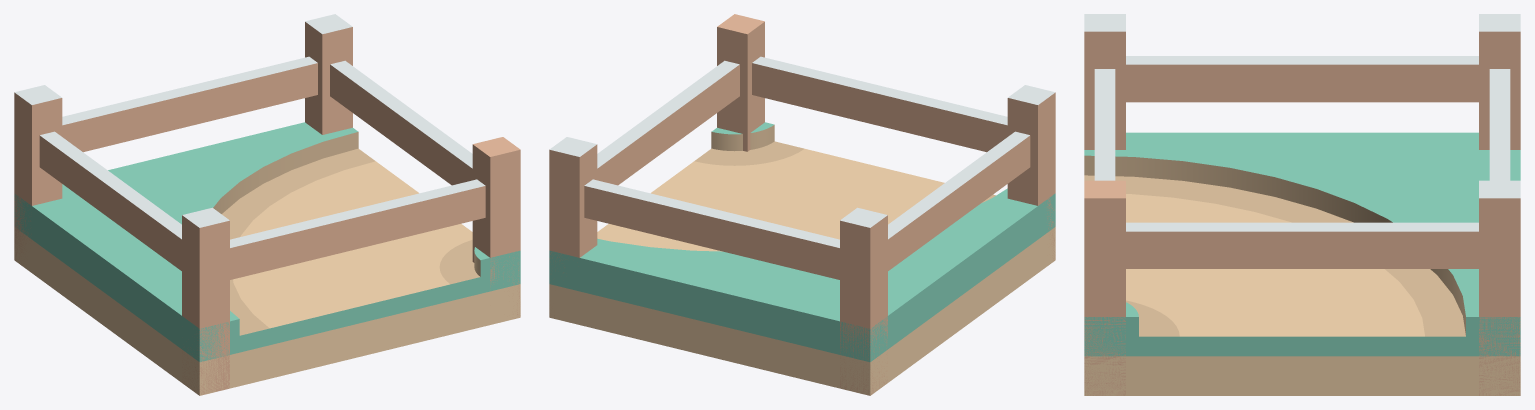
Rendered from tile_barriere.fbx.
3 views of the same model, side by side, from view 1: azimuth 30°, elevation 25°; view 2: azimuth 150°, elevation 25°; view 3: azimuth 270°, elevation 25° (orthographic). The views are drawn at different scales.
Parts seen in each view (by area): view 1: tile_cornerRound.002, snow_woodStructure; view 2: tile_cornerRound.002, snow_woodStructure; view 3: tile_cornerRound.002, snow_woodStructure.
Part boxes in pixels (<box>): tile_cornerRound.002: <box>14,122,520,395</box>; snow_woodStructure: <box>14,14,520,394</box>; tile_cornerRound.002: <box>549,122,1055,395</box>; snow_woodStructure: <box>549,14,1055,395</box>; tile_cornerRound.002: <box>1084,132,1520,395</box>; snow_woodStructure: <box>1084,14,1520,395</box>.
Size of the model in its own units: 100 by 50 by 100.
